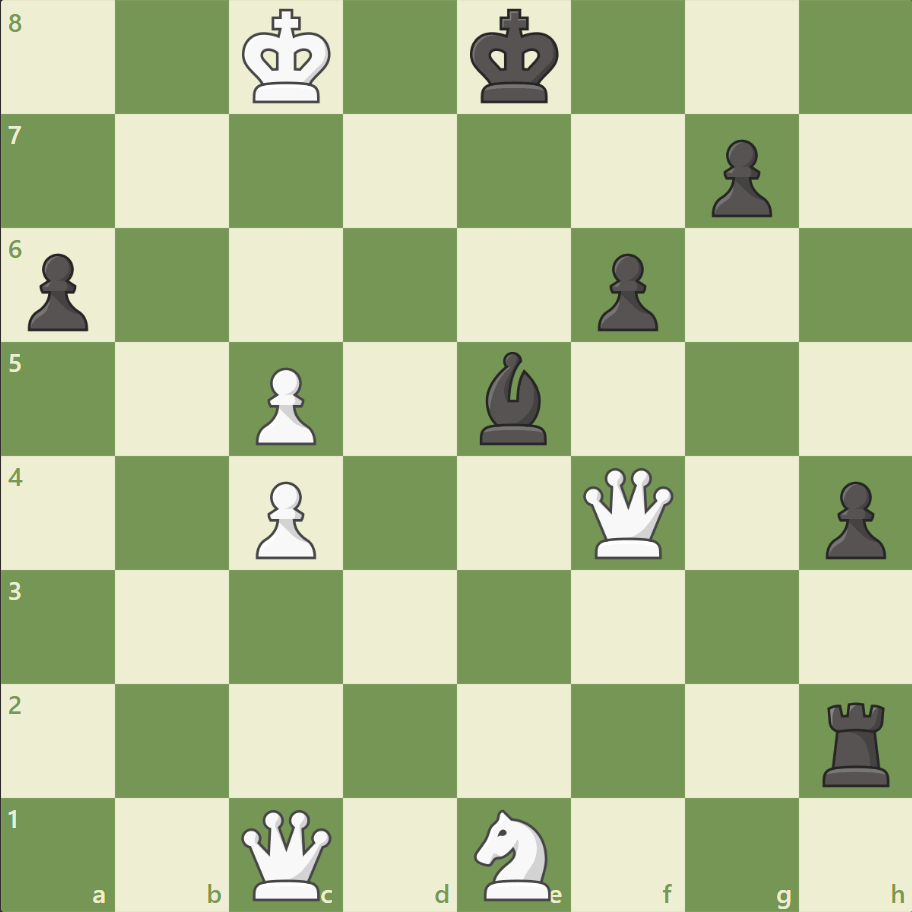K: (238, 4, 338, 112)
N: (465, 802, 562, 904)
P: (247, 359, 322, 450), (247, 473, 322, 564)
Q: (578, 463, 677, 562), (237, 804, 336, 903)
b: (471, 347, 555, 449)
k: (465, 4, 565, 112)
p: (701, 132, 776, 223), (20, 246, 95, 337), (588, 246, 662, 337), (815, 473, 889, 564)
r: (814, 693, 897, 790)
